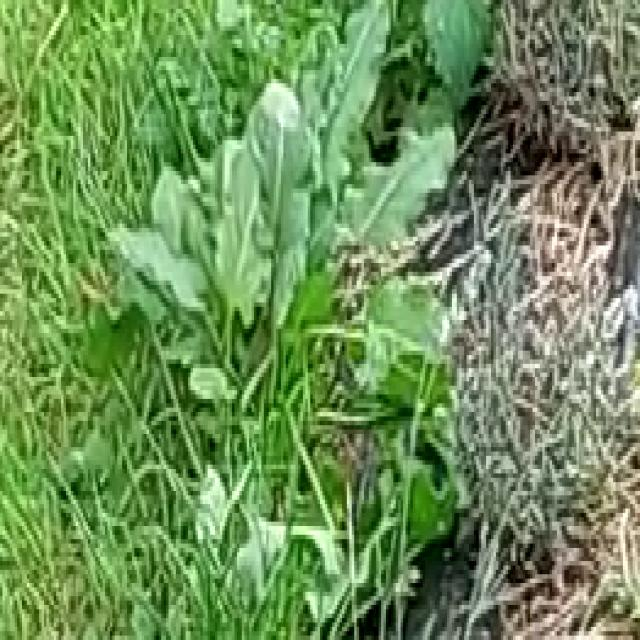organic waste: (115, 61, 449, 478)
